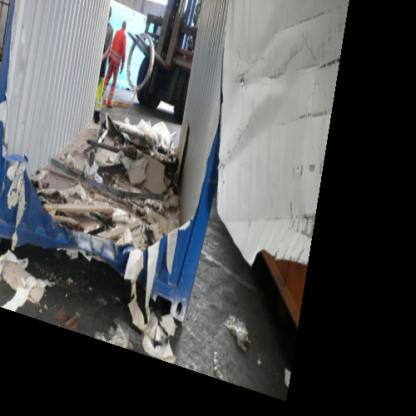Damage: (0, 2, 296, 324)
